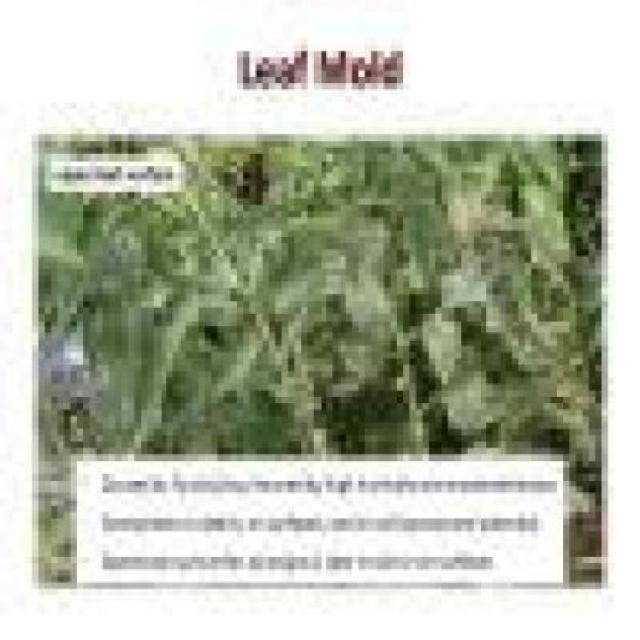Leaf Mold: (122, 290, 198, 456), (44, 192, 128, 338), (454, 263, 557, 371), (383, 142, 435, 302), (492, 352, 563, 442), (270, 243, 358, 314), (97, 230, 141, 364), (442, 364, 512, 436), (205, 326, 263, 403), (346, 263, 391, 346), (417, 308, 461, 390), (180, 364, 218, 454), (225, 212, 269, 257), (198, 288, 250, 320), (160, 218, 205, 251), (243, 249, 263, 308)
